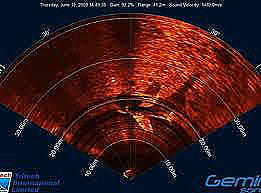aircraft: (112, 91, 178, 133)
